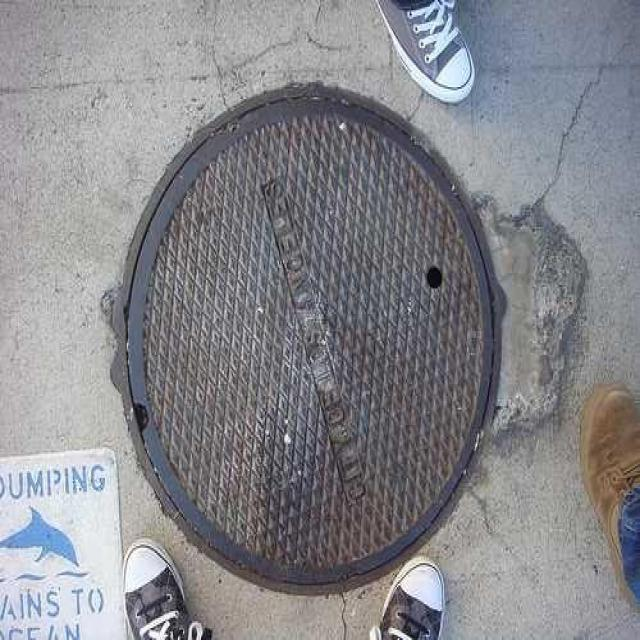manhole: (105, 85, 507, 591)
